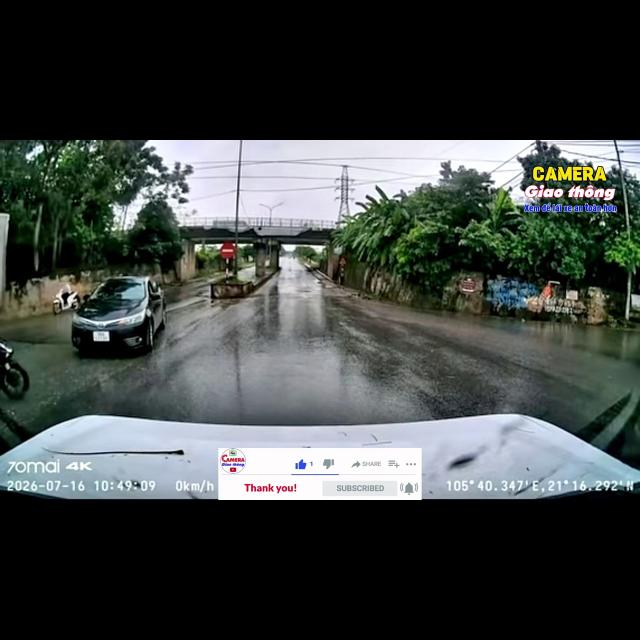car: (72, 277, 166, 351)
motorcycle: (0, 339, 29, 398), (53, 285, 80, 314)
